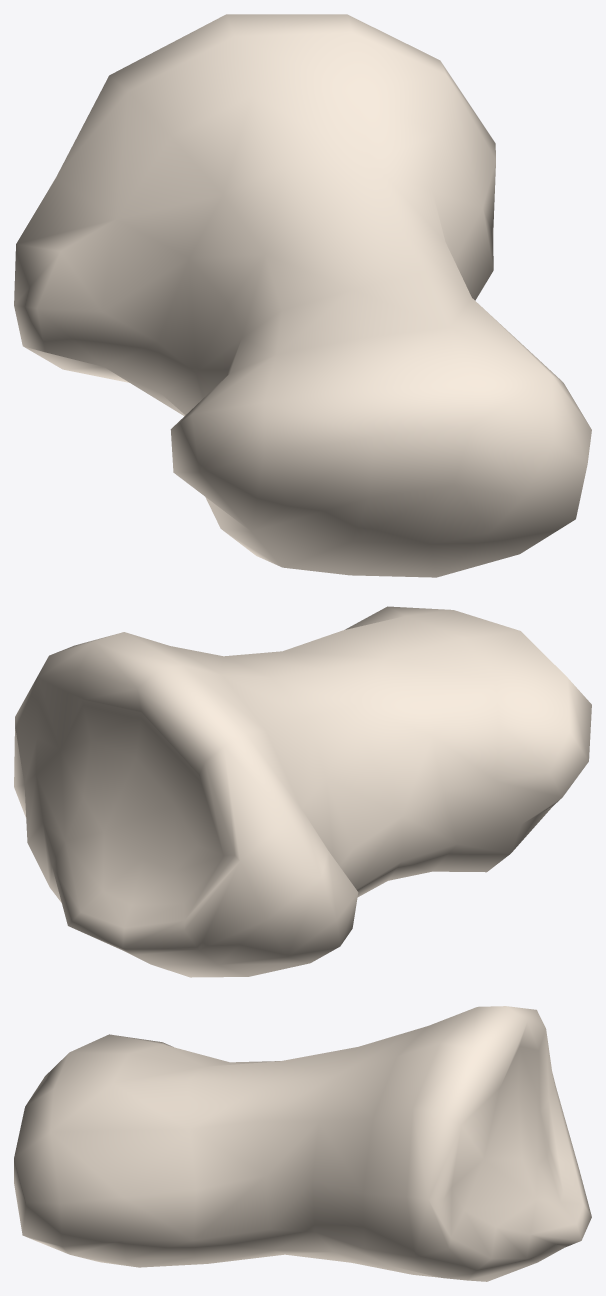
The model's file is right_toe_2_distal.glb.
3 views of the same model, one above another, from view 1: azimuth 30°, elevation 25°; view 2: azimuth 150°, elevation 25°; view 3: azimuth 270°, elevation 25° (orthographic). The views are drawn at different scales.
Parts seen in each view (by area): view 1: Distal phalanx of second finger of foot.r; view 2: Distal phalanx of second finger of foot.r; view 3: Distal phalanx of second finger of foot.r.
Boxes of the visible parts, x1,y1,x2,y2 form: Distal phalanx of second finger of foot.r: (14, 14, 591, 577); Distal phalanx of second finger of foot.r: (14, 606, 591, 977); Distal phalanx of second finger of foot.r: (14, 1006, 591, 1281).
Size of the model in its own units: 0.01 by 0.00729 by 0.0135.
